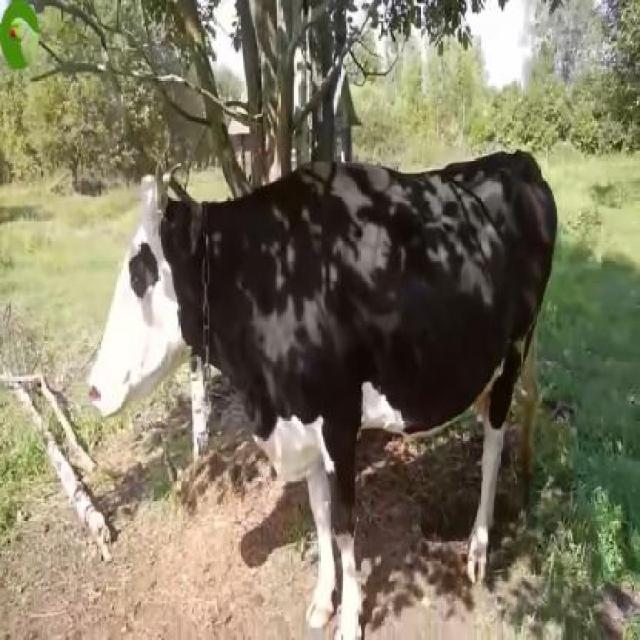Cow: (86, 150, 557, 638)
